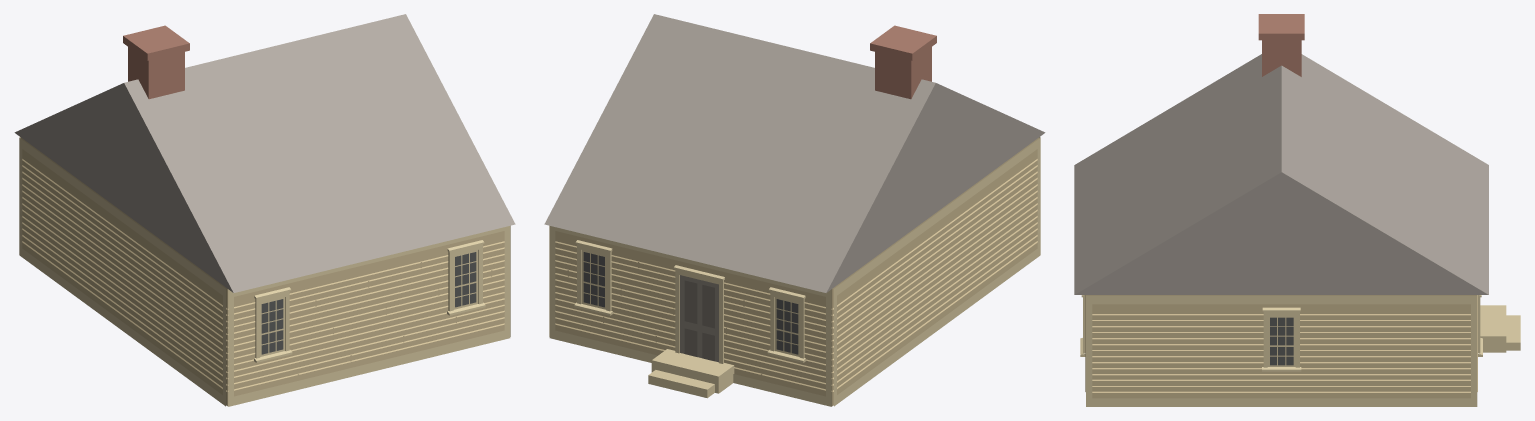
The model's file is recon_1835_north_d4_056__inferred_1835.glb.
3 views of the same model, side by side, from view 1: azimuth 30°, elevation 25°; view 2: azimuth 150°, elevation 25°; view 3: azimuth 270°, elevation 25° (orthographic). The views are drawn at different scales.
Parts seen in each view (by area): view 1: recon_1835_north_d4_056__inferred_1835; view 2: recon_1835_north_d4_056__inferred_1835; view 3: recon_1835_north_d4_056__inferred_1835.
Boxes of the visible parts, x1,y1,x2,y2 form: recon_1835_north_d4_056__inferred_1835: (14,14,515,406); recon_1835_north_d4_056__inferred_1835: (544,14,1045,406); recon_1835_north_d4_056__inferred_1835: (1074,14,1520,406).
Bounding box in the file's own units: 6.68 × 6.26 × 9.47.
